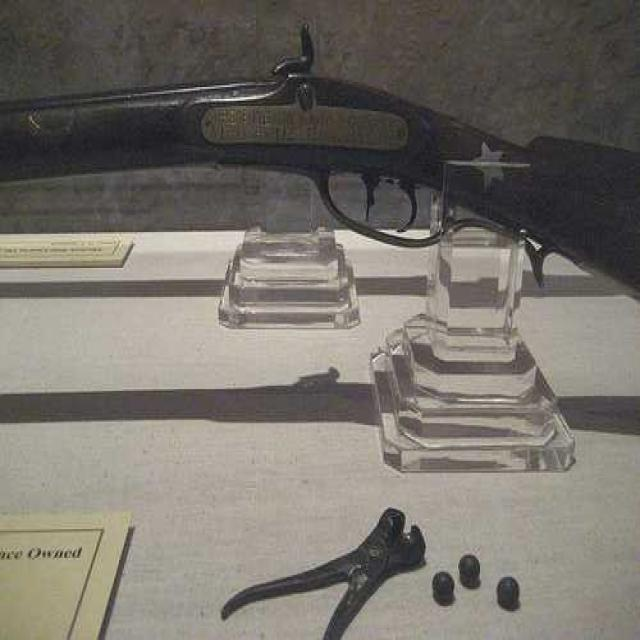heavyweapon: (1, 32, 628, 330)
